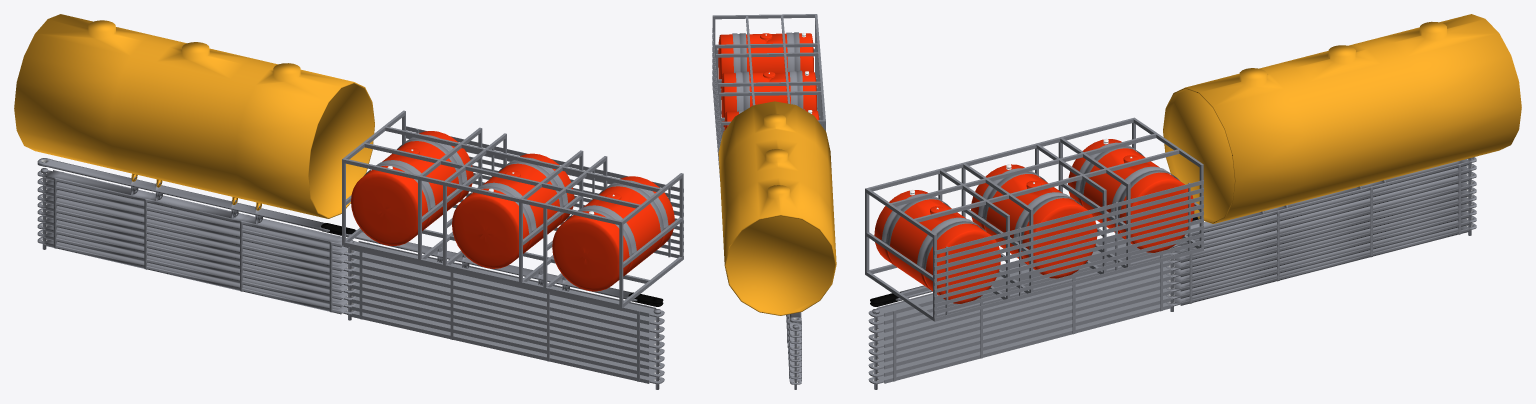
Rendered from bigbuoygrid.dae.
3 renders of one model, left to right at view 1: azimuth 30°, elevation 25°; view 2: azimuth 150°, elevation 25°; view 3: azimuth 270°, elevation 25°, orthographic. The views are drawn at different scales.
Parts seen in each view (by area): view 1: bigbuoygrid.001; view 2: bigbuoygrid.001; view 3: bigbuoygrid.001.
Boxes of the visible parts, bbox=[...] form: bigbuoygrid.001: bbox=[14, 14, 683, 389]; bigbuoygrid.001: bbox=[712, 14, 836, 389]; bigbuoygrid.001: bbox=[865, 14, 1521, 389].
Size of the model in its own units: 9.9 by 13.65 by 5.2.
7 materials, 7 textured.
